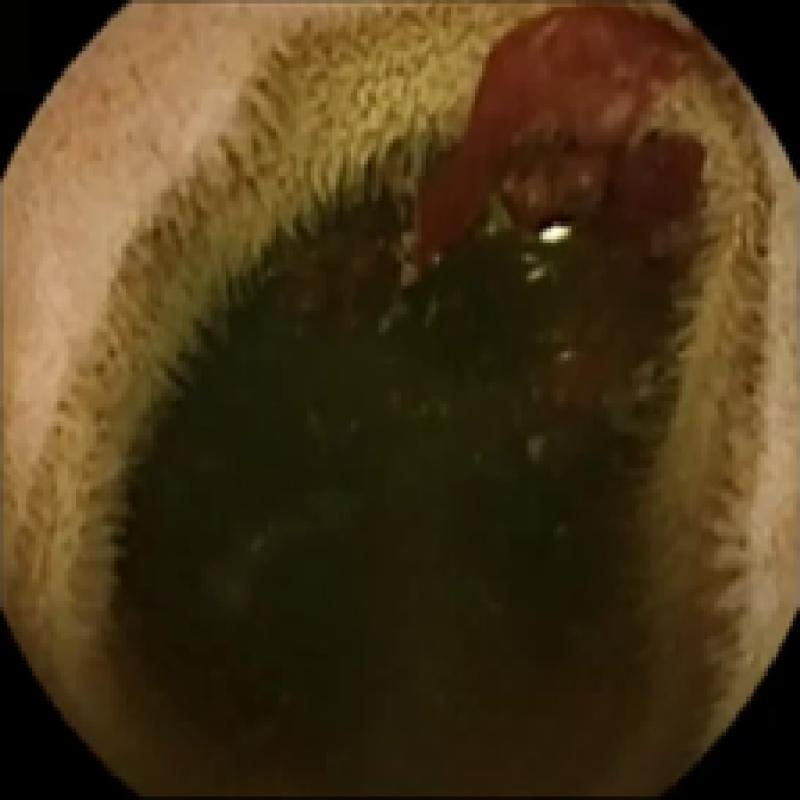bleeding: (407, 0, 722, 392)
